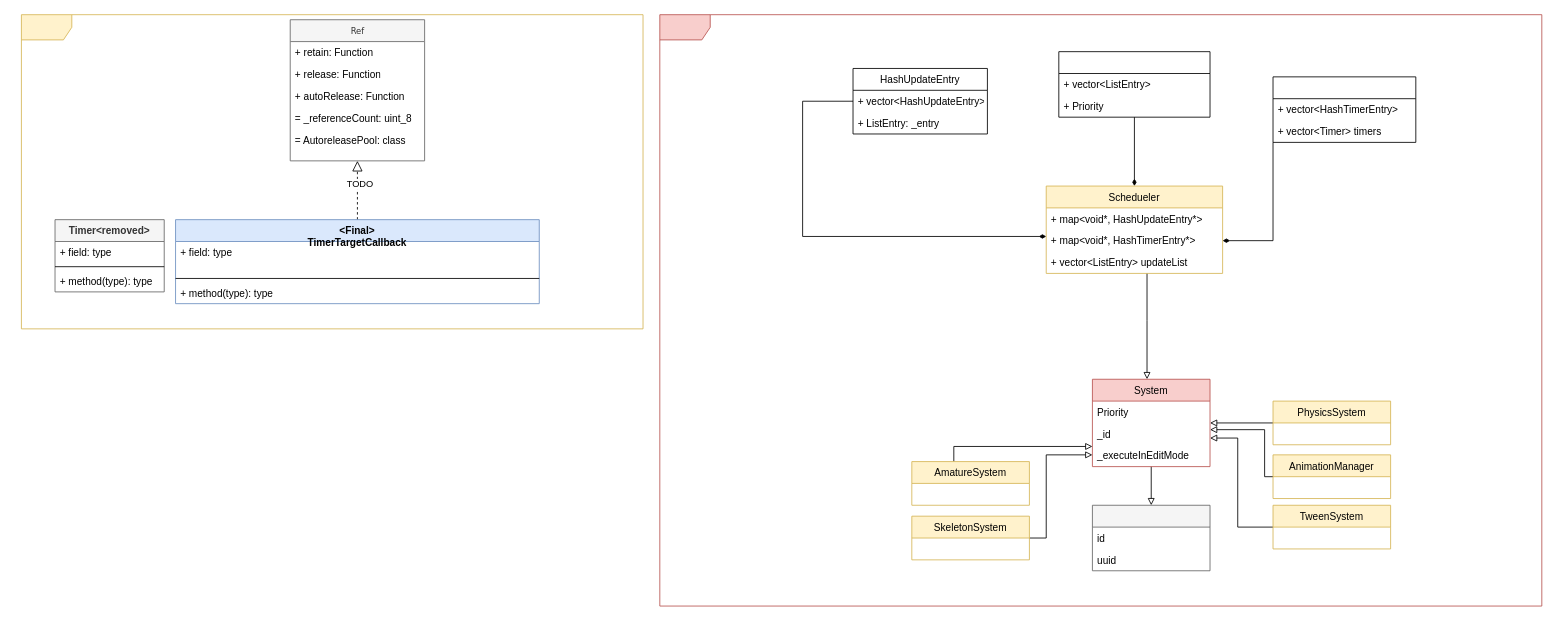
Image size: 1557x621. Some labels were removed from this diagram. Each missing label, with the box of its shape:
CallbackTimer: (21, 14, 643, 329)
HashTimerEntry: (1272, 76, 1416, 142)
ISchedulable: (1092, 504, 1210, 571)
ListEntry: (1058, 51, 1210, 117)
Scheduler Related: (659, 14, 1542, 606)
